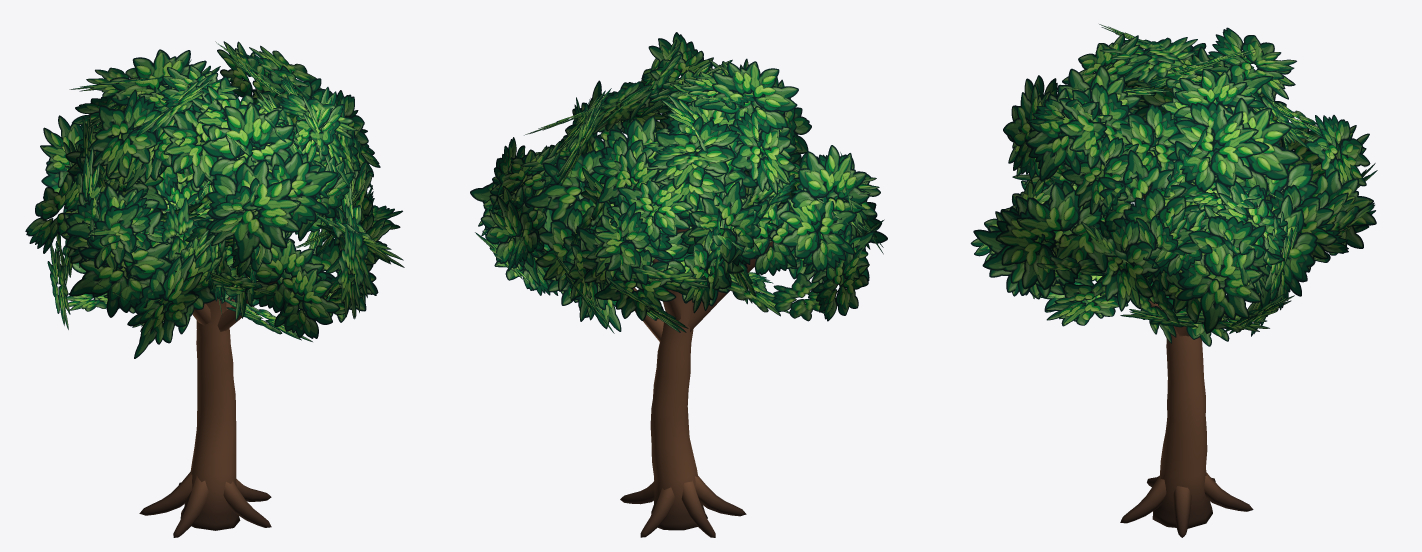
The model's file is StylizedTree.roblox.glb.
The picture shows the model from 3 angles, left to right: view 1: azimuth 30°, elevation 25°; view 2: azimuth 150°, elevation 25°; view 3: azimuth 270°, elevation 25°; orthographic projection. The views are drawn at different scales.
Visible parts, largest first — view 1: Leaves, Trunk; view 2: Leaves, Trunk; view 3: Leaves, Trunk.
Part boxes in pixels (x1,y1,x2,y2): Leaves: (25,41,404,358); Trunk: (139,210,276,537); Leaves: (470,32,887,333); Trunk: (620,218,772,537); Leaves: (970,24,1377,346); Trunk: (1120,186,1253,537).
Size of the model in its own units: 26.76 by 30.91 by 26.51.
Materials: 2 (1 with a texture image).
